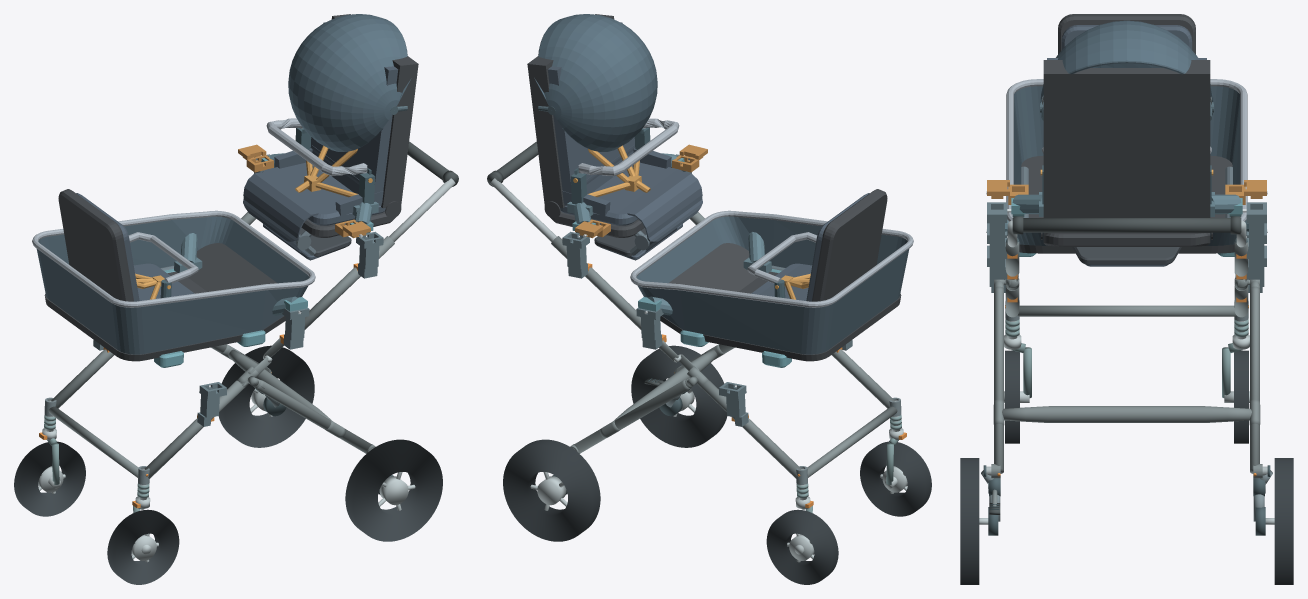
File: D20_w650_state1_wheel_M.glb
3 views of the same model, side by side, from view 1: azimuth 30°, elevation 25°; view 2: azimuth 150°, elevation 25°; view 3: azimuth 270°, elevation 25° (orthographic). The views are drawn at different scales.
Visible parts, largest first — view 1: D20_Lower, D20_Upper, RL_tire.008, RR_tire.008, FL_tire.008, FR_tire.008, V46_rear_leg_-1.009, main_lower_-1.009, D20_Lower_Mount_M, front_fixed_round_tube.008, main_upper_-1.009, Universal_Cabin_Receiver_H_-1 (+8 smaller); view 2: D20_Lower, D20_Upper, RR_tire.008, RL_tire.008, FR_tire.008, FL_tire.008, V46_rear_leg_1.009, main_lower_1.009, D20_Lower_Mount_M, front_fixed_round_tube.008, main_upper_1.009, Universal_Cabin_Receiver_H_1 (+8 smaller); view 3: D20_Upper, D20_Lower, V46_rearbar.009, round_handle.008, front_fixed_round_tube.008, RL_tire.008, RR_tire.008, V46_rear_leg_1.009, V46_rear_leg_-1.009, D20_Upper_Mount_H, FL_tire.008, FR_tire.008 (+6 smaller).
Boxes of the visible parts, <box> form: D20_Lower: <box>32,189,315,367</box>; D20_Upper: <box>243,14,418,260</box>; RL_tire.008: <box>345,439,442,541</box>; RR_tire.008: <box>218,345,314,447</box>; FL_tire.008: <box>107,509,179,584</box>; FR_tire.008: <box>14,441,85,516</box>; V46_rear_leg_-1.009: <box>255,380,371,453</box>; main_lower_-1.009: <box>144,380,247,478</box>; D20_Lower_Mount_M: <box>174,233,307,315</box>; front_fixed_round_tube.008: <box>48,406,138,477</box>; main_upper_-1.009: <box>304,236,394,329</box>; Universal_Cabin_Receiver_H_-1: <box>356,231,383,278</box>; D20_Lower: <box>630,189,913,367</box>; D20_Upper: <box>527,14,702,260</box>; RR_tire.008: <box>503,439,600,541</box>; RL_tire.008: <box>631,345,727,447</box>; FR_tire.008: <box>766,509,838,584</box>; FL_tire.008: <box>860,441,931,516</box>; V46_rear_leg_1.009: <box>574,380,690,453</box>; main_lower_1.009: <box>698,380,801,478</box>; D20_Lower_Mount_M: <box>638,232,771,315</box>; front_fixed_round_tube.008: <box>807,406,897,477</box>; main_upper_1.009: <box>551,236,641,329</box>; Universal_Cabin_Receiver_H_1: <box>562,231,589,278</box>; D20_Upper: <box>1040,20,1213,266</box>; D20_Lower: <box>1006,14,1247,256</box>; V46_rearbar.009: <box>1002,406,1251,422</box>; round_handle.008: <box>1012,218,1241,232</box>; front_fixed_round_tube.008: <box>1017,305,1236,316</box>; RL_tire.008: <box>960,458,979,584</box>; RR_tire.008: <box>1274,458,1293,584</box>; V46_rear_leg_1.009: <box>1250,286,1259,473</box>; V46_rear_leg_-1.009: <box>994,286,1003,473</box>; D20_Upper_Mount_H: <box>1007,192,1246,217</box>; FL_tire.008: <box>1005,350,1019,443</box>; FR_tire.008: <box>1234,350,1248,443</box>.
Bounding box in the file's own units: 1.16 × 1.48 × 0.7871.
